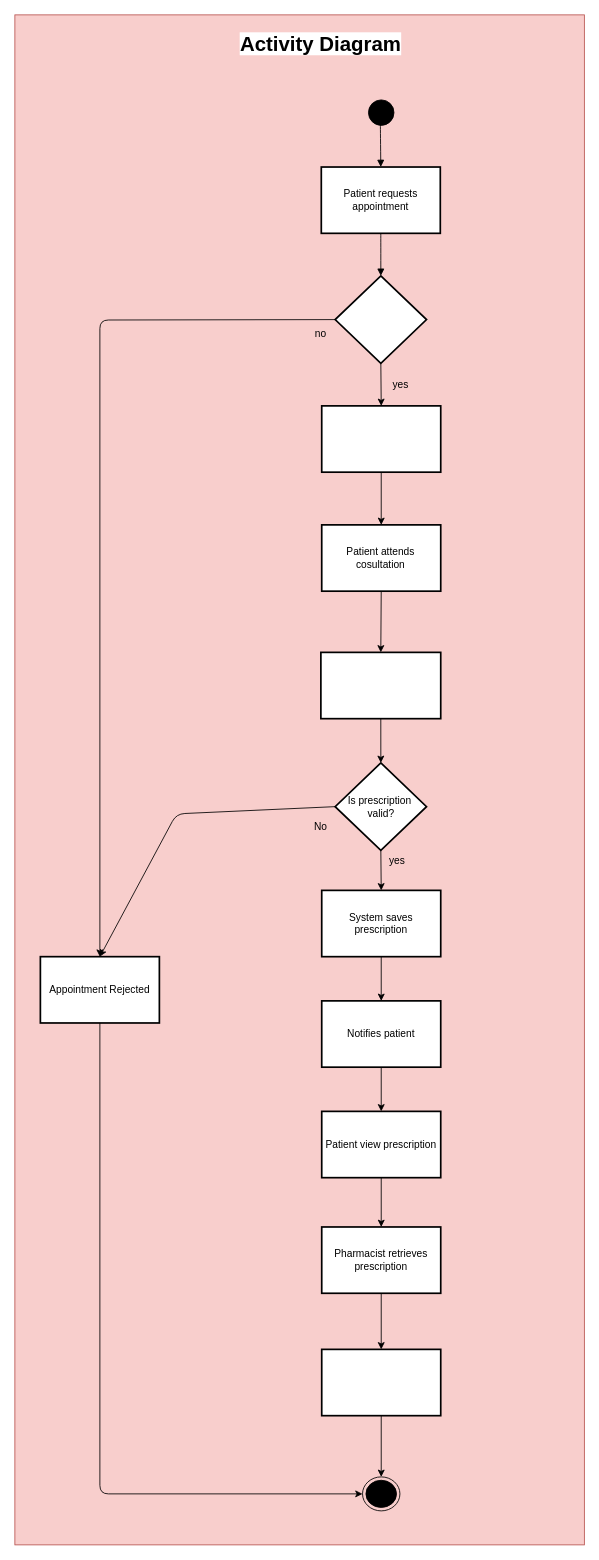
This 599x1560 diagram has some shape labels left out. Each missing label, with the box of its shape:
Doctor confirms appointment: (320, 405, 441, 473)
Doctor creates digital prescription: (320, 651, 441, 719)
Is appointment available?: (334, 275, 427, 364)
Pharmacist dispense medication: (320, 1348, 441, 1416)
